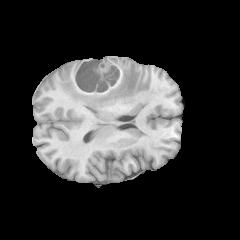glioma: (59, 58, 141, 110)
